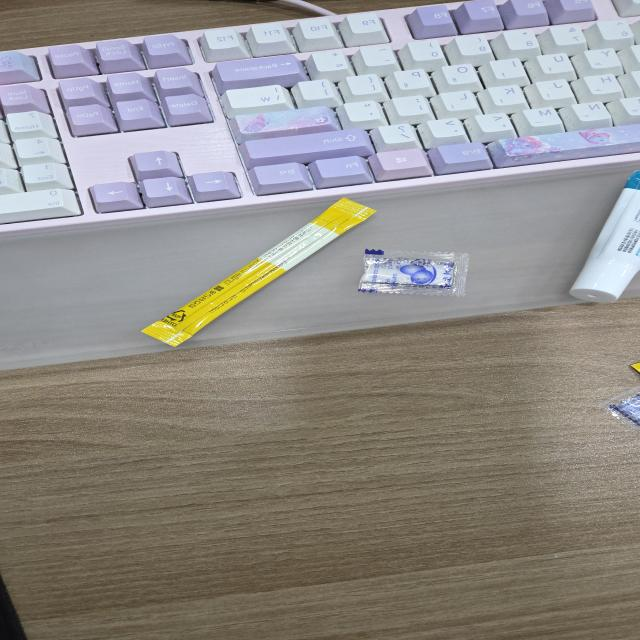lacto: (120, 191, 387, 355), (621, 357, 640, 381)
lip: (559, 170, 640, 308)
salt: (348, 243, 479, 301), (587, 383, 640, 438)
